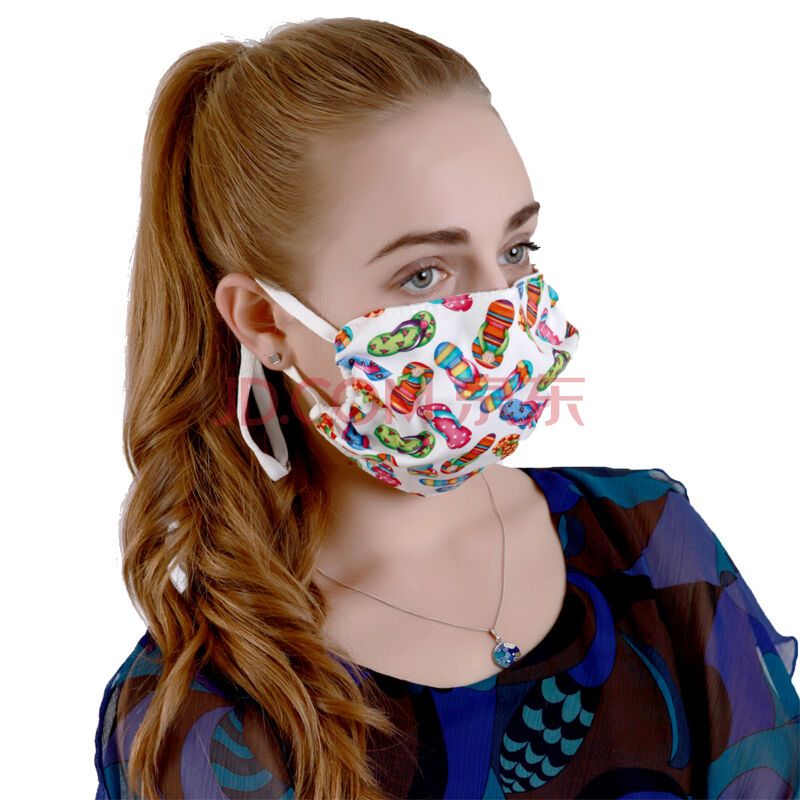face_mask: (287, 104, 545, 466)
